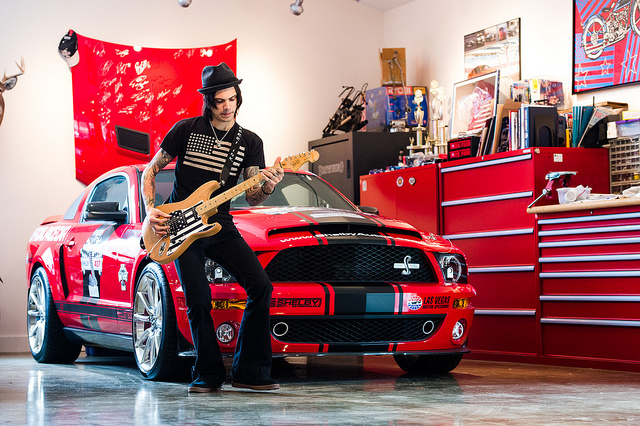person: (203, 78, 242, 125)
